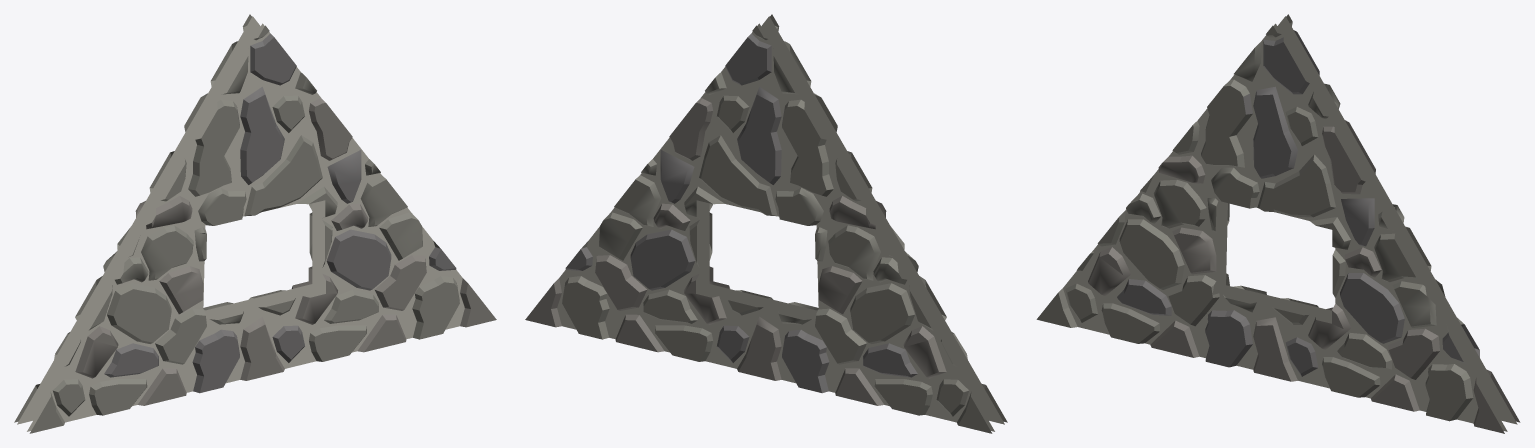
Rendered from rpgpp_ag_roof_end_01_6x5_wall_window_04a.fbx.
The picture shows the model from 3 angles, left to right: view 1: azimuth 30°, elevation 25°; view 2: azimuth 150°, elevation 25°; view 3: azimuth 330°, elevation 25°; orthographic projection.
Parts seen in each view (by area): view 1: rpgpp_ag_roof_end_01_6x5_wall_window_04a; view 2: rpgpp_ag_roof_end_01_6x5_wall_window_04a; view 3: rpgpp_ag_roof_end_01_6x5_wall_window_04a.
Part boxes in pixels (x1=…): rpgpp_ag_roof_end_01_6x5_wall_window_04a: x1=14, y1=14, x2=496, y2=433; rpgpp_ag_roof_end_01_6x5_wall_window_04a: x1=525, y1=14, x2=1007, y2=433; rpgpp_ag_roof_end_01_6x5_wall_window_04a: x1=1036, y1=14, x2=1520, y2=433.
Bounding box in the file's own units: 6.38 × 4.58 × 0.404.
